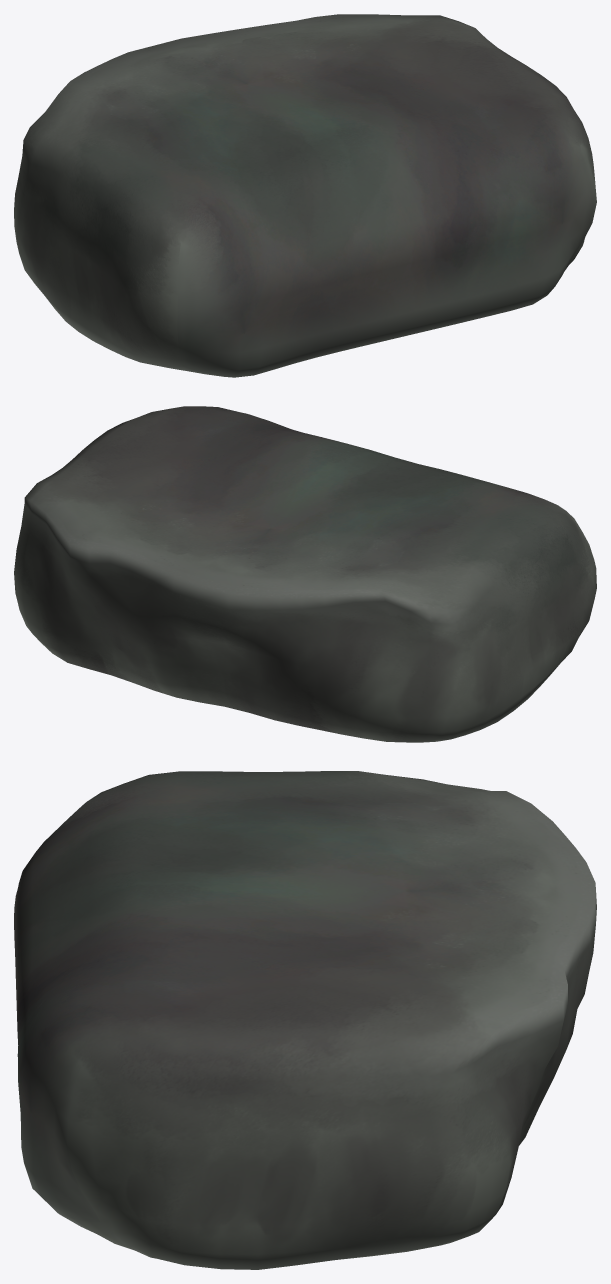
The model's file is CliffEdge.fbx.
The picture shows the model from 3 angles, top to bottom: view 1: azimuth 30°, elevation 25°; view 2: azimuth 150°, elevation 25°; view 3: azimuth 270°, elevation 25°; orthographic projection. The views are drawn at different scales.
Parts seen in each view (by area): view 1: CliffEdge; view 2: CliffEdge; view 3: CliffEdge.
Boxes of the visible parts, bbox=[...] form: CliffEdge: bbox=[14, 14, 596, 377]; CliffEdge: bbox=[14, 406, 596, 742]; CliffEdge: bbox=[14, 771, 596, 1269].
Bounding box in the file's own units: 442 × 166 × 350.
1 material, 1 textured.
